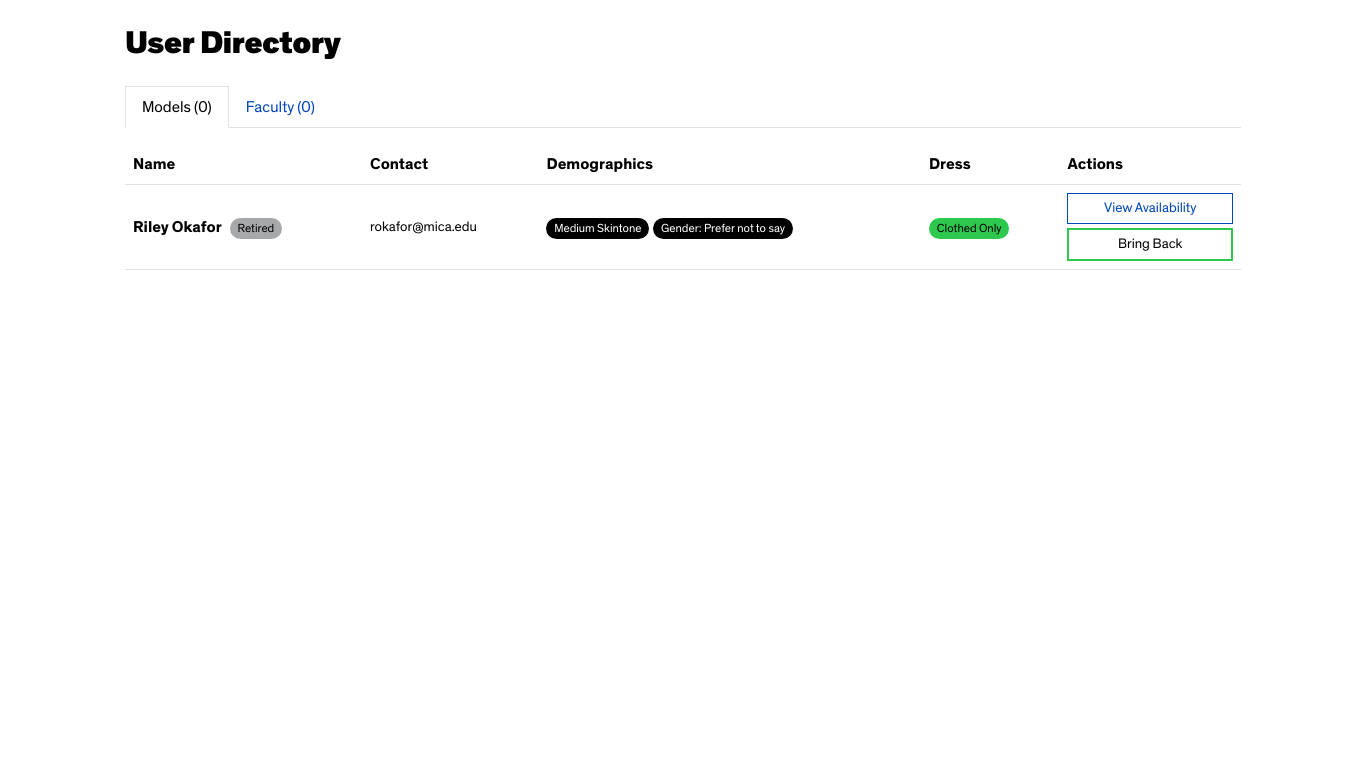
it: UserDirectory › retiring and bringing back from the list › brings a retired model back
This screenshot has width=1366, height=768.
Click the button with aria-label "Bring Back Riley Okafor": (1150, 245) [1068,228,1233,261]
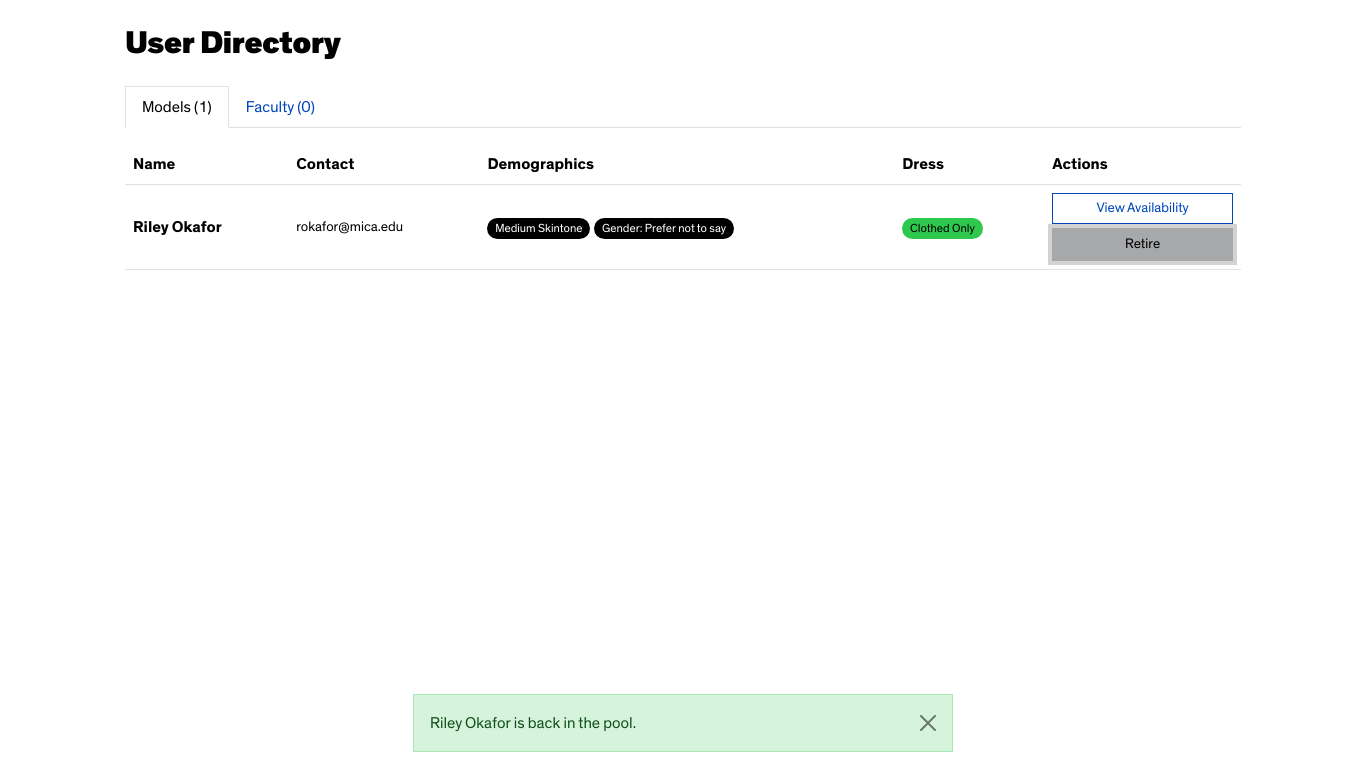
Now the text "Retired" is gone
